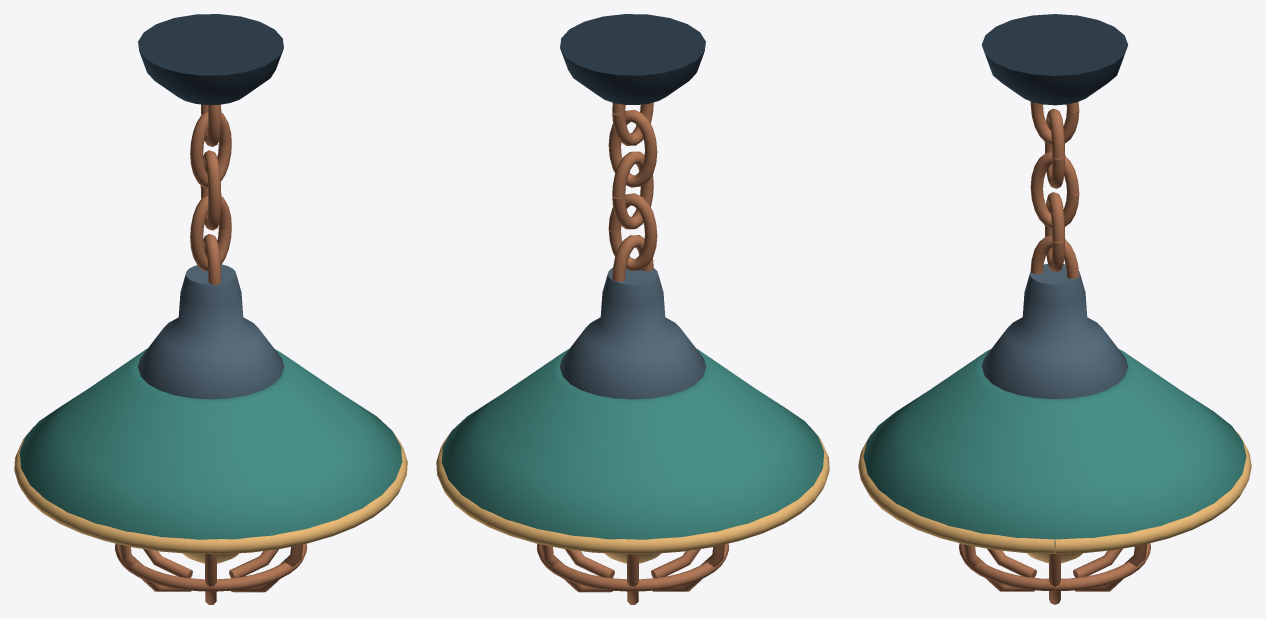
The picture shows the model from 3 angles, left to right: view 1: azimuth 30°, elevation 25°; view 2: azimuth 150°, elevation 25°; view 3: azimuth 270°, elevation 25°; orthographic projection.
Parts seen in each view (by area): view 1: PR136 enamel and hardware; view 2: PR136 enamel and hardware; view 3: PR136 enamel and hardware.
Part boxes in pixels (box(x1,y1,x2,y2)): PR136 enamel and hardware: box(14, 14, 407, 604); PR136 enamel and hardware: box(436, 14, 829, 604); PR136 enamel and hardware: box(858, 14, 1251, 604).
Bounding box in the file's own units: 0.5606 × 0.85 × 0.5606.
